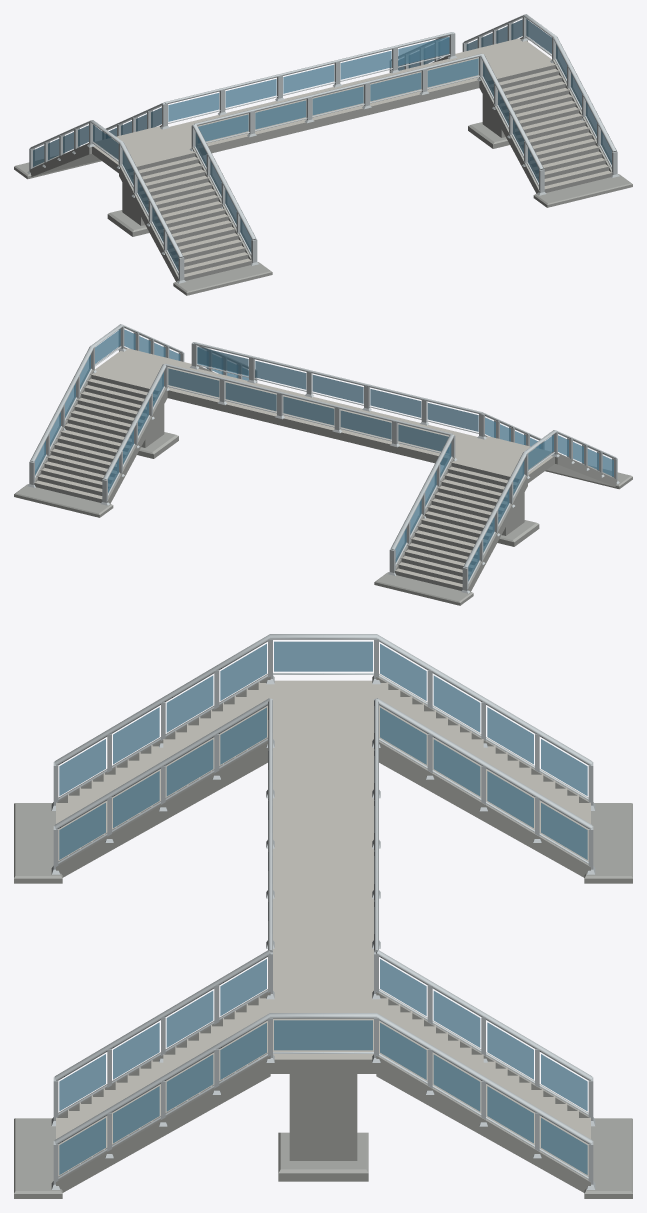
Rendered from footbridge-v1.fbx.
3 views of the same model, one above another, from view 1: azimuth 30°, elevation 25°; view 2: azimuth 150°, elevation 25°; view 3: azimuth 270°, elevation 25° (orthographic). The views are drawn at different scales.
Visible parts, largest first — view 1: 双梯天桥_楼梯落地平台; view 2: 双梯天桥_楼梯落地平台; view 3: 双梯天桥_楼梯落地平台.
Boxes of the visible parts, bbox=[...] form: 双梯天桥_楼梯落地平台: bbox=[14, 14, 632, 295]; 双梯天桥_楼梯落地平台: bbox=[14, 324, 632, 605]; 双梯天桥_楼梯落地平台: bbox=[14, 634, 632, 1198].
Bounding box in the file's own units: 1980 × 428 × 1327.
